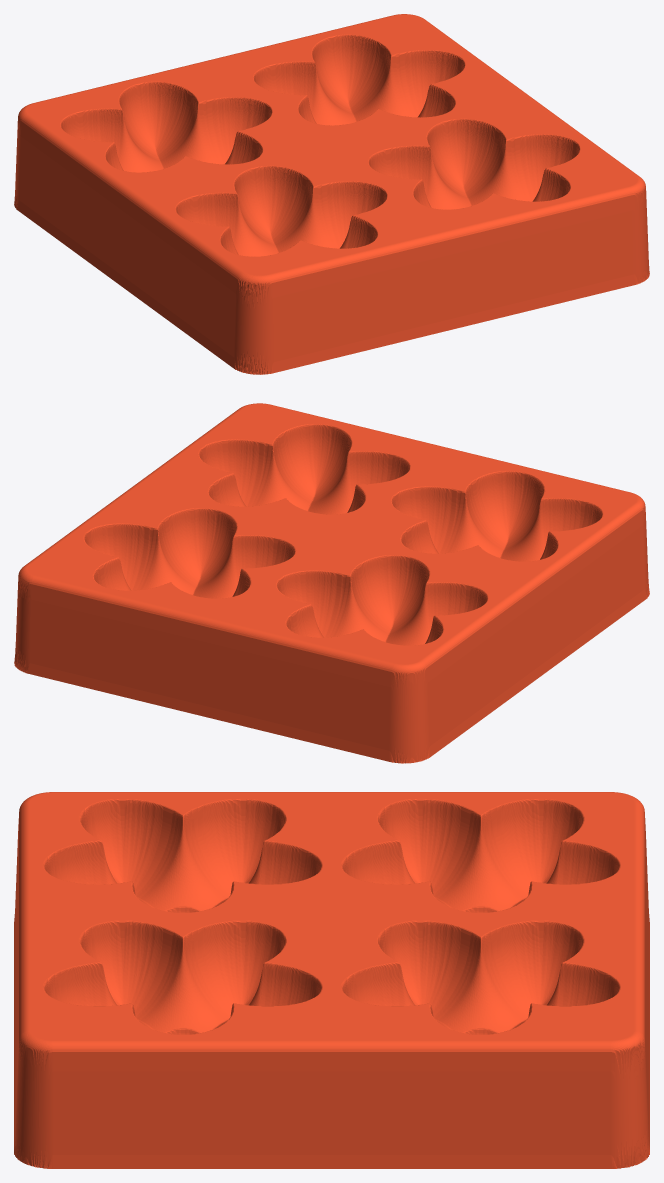
File: mold.glb
The picture shows the model from 3 angles, top to bottom: view 1: azimuth 30°, elevation 25°; view 2: azimuth 150°, elevation 25°; view 3: azimuth 270°, elevation 25°; orthographic projection. The views are drawn at different scales.
Visible parts, largest first — view 1: geometry_0; view 2: geometry_0; view 3: geometry_0.
Boxes of the visible parts, <box> form: geometry_0: <box>14,14,649,374</box>; geometry_0: <box>14,403,649,763</box>; geometry_0: <box>14,792,649,1168</box>.
Size of the model in its own units: 0.1422 by 0.031 by 0.1466.
